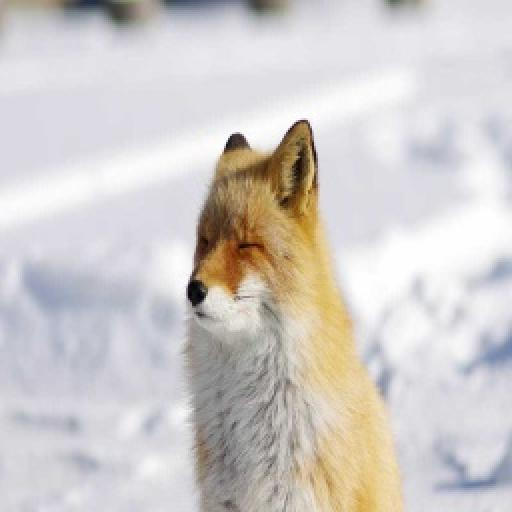zorro: (186, 122, 400, 510)
